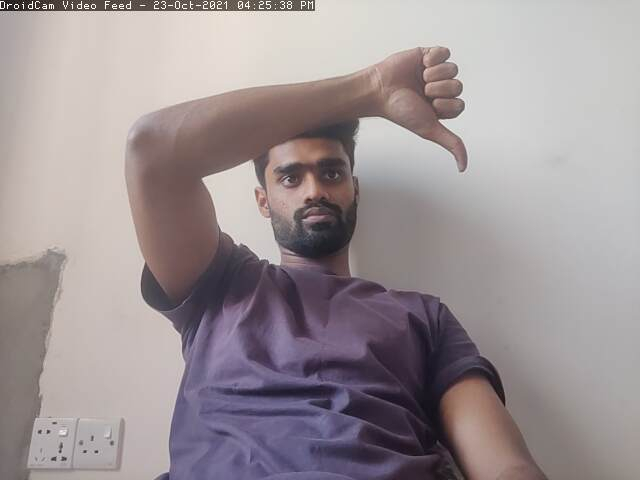ThumbsDown: (380, 38, 471, 175)
